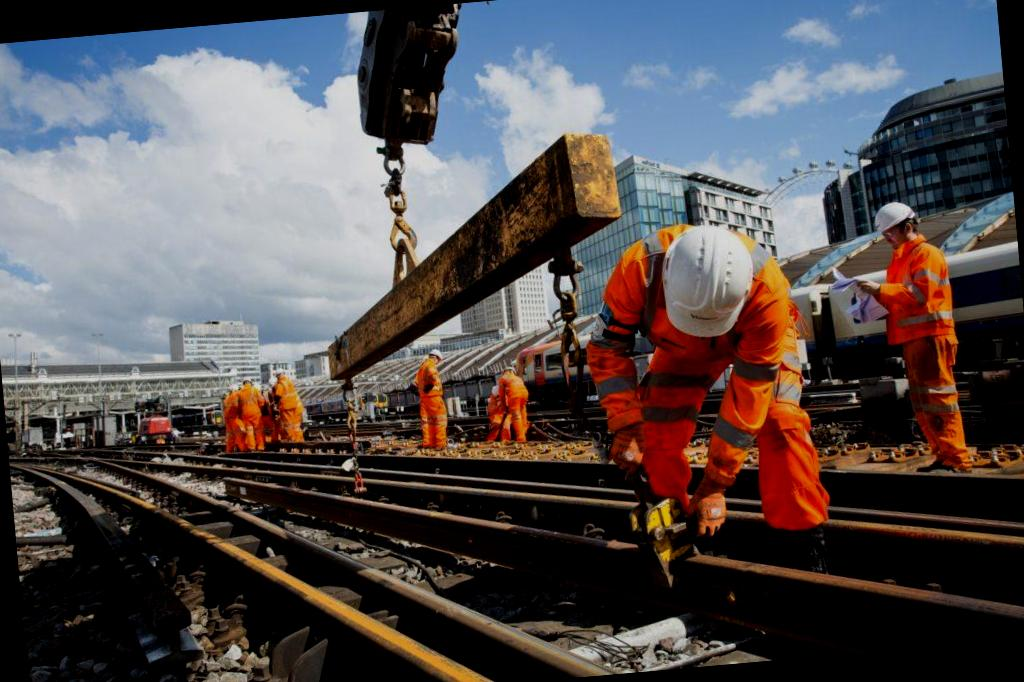helmet: (652, 220, 760, 342), (872, 188, 924, 242), (425, 344, 445, 364)
person: (578, 214, 835, 584), (857, 179, 975, 470), (404, 337, 464, 465), (264, 354, 318, 462), (493, 362, 536, 450)
